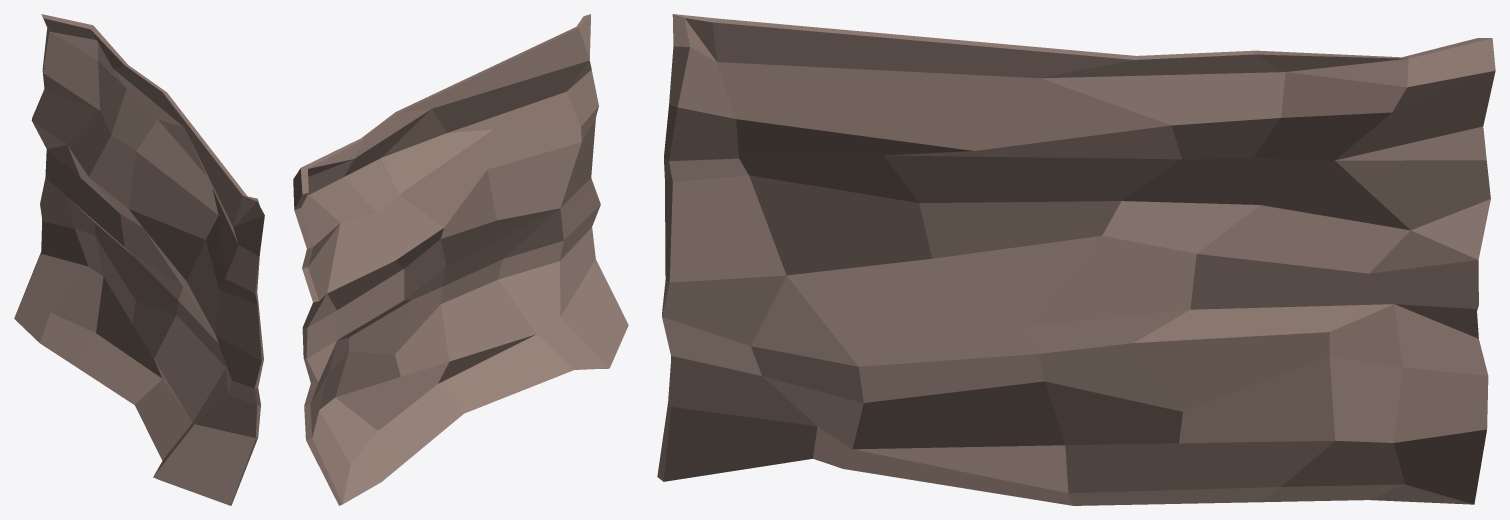
File: cave wall straight.fbx
3 renders of one model, left to right at view 1: azimuth 30°, elevation 25°; view 2: azimuth 150°, elevation 25°; view 3: azimuth 270°, elevation 25°, orthographic. The views are drawn at different scales.
Parts seen in each view (by area): view 1: wall straight; view 2: wall straight; view 3: wall straight.
Part boxes in pixels (x1,y1,x2,y2): wall straight: [14, 14, 264, 505]; wall straight: [293, 14, 628, 505]; wall straight: [657, 14, 1495, 505].
Size of the model in its own units: 515 by 1160 by 1789.
